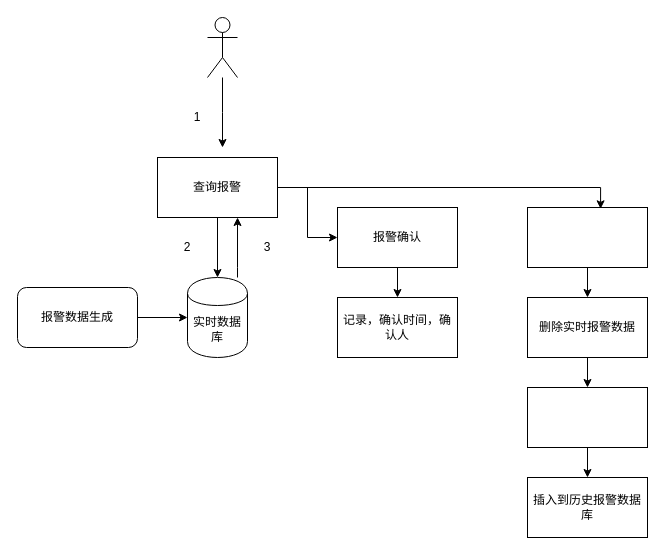
Image size: 665x555. Some labels were removed from this diagram. Each missing label, with the box of its shape:
Actor: (206, 16, 238, 78)
今日内不在生成该报警: (526, 386, 648, 448)
报警解除: (526, 206, 648, 268)
